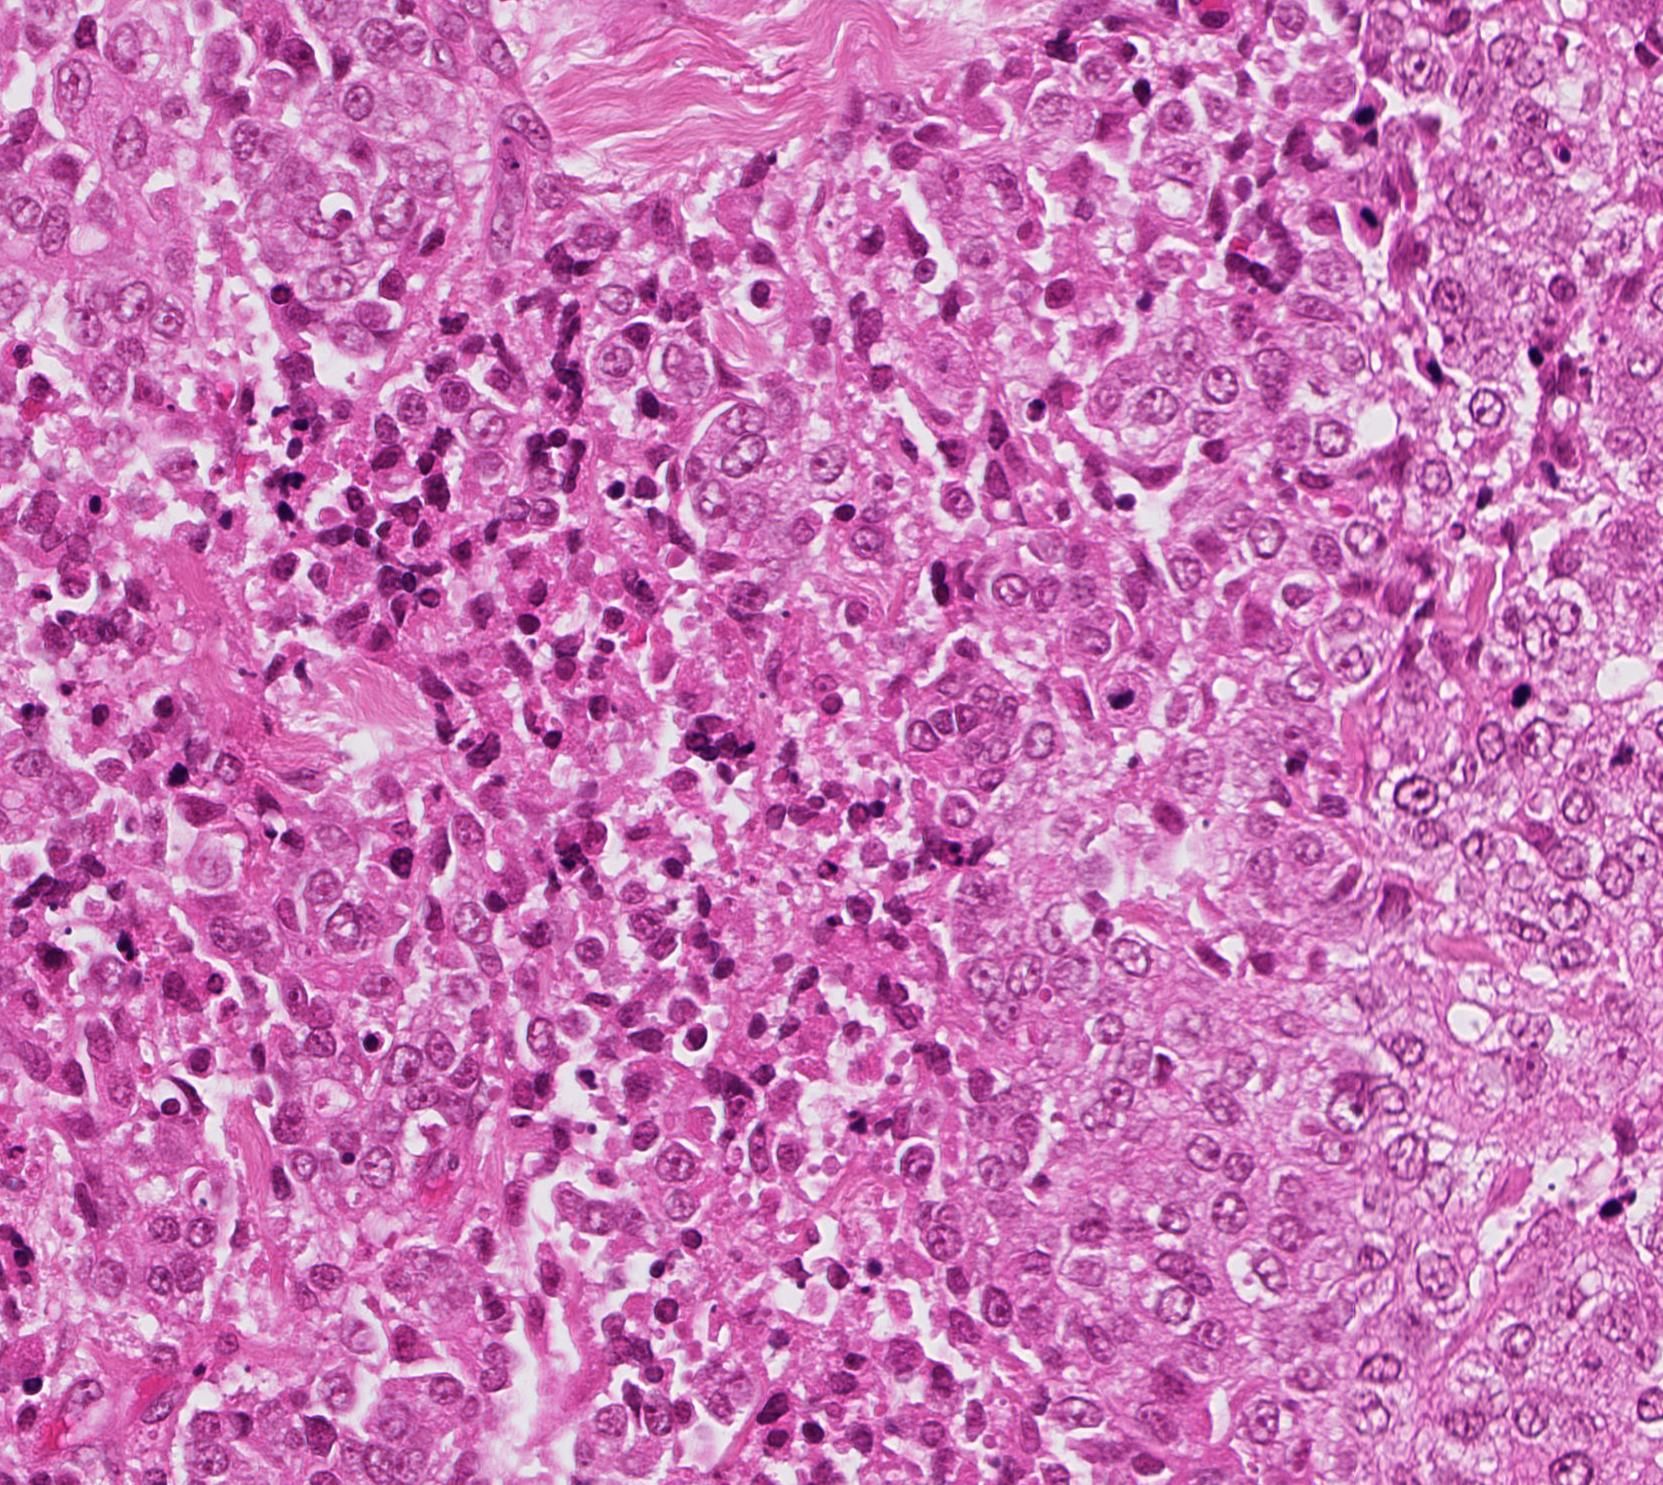mitosis: (1090, 664, 1150, 722)
